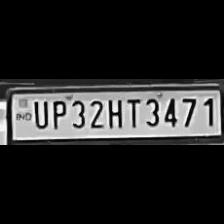1: (198, 95, 216, 127)
2: (86, 96, 104, 130)
3: (68, 96, 86, 130), (142, 96, 160, 128)
4: (160, 94, 178, 128)
7: (178, 96, 198, 128)
H: (104, 96, 124, 130)
P: (47, 96, 66, 130)
T: (124, 96, 142, 128)
U: (30, 98, 48, 130)
